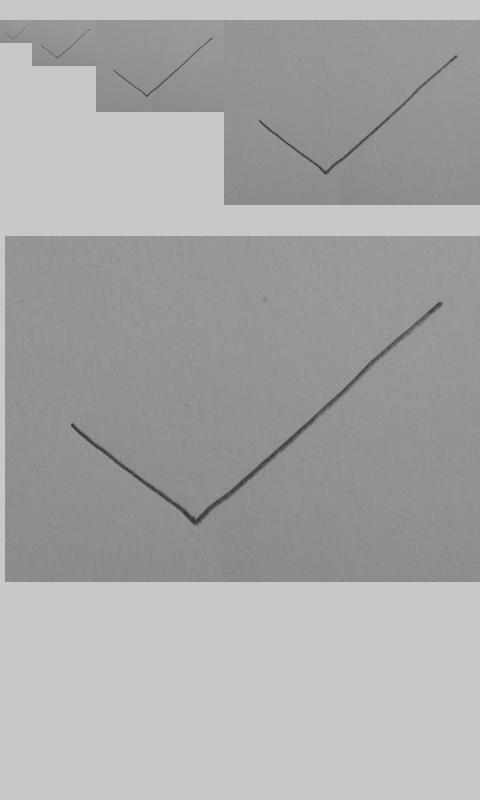check_box: (72, 302, 442, 525), (258, 55, 458, 175), (113, 37, 212, 97), (41, 29, 90, 59), (5, 25, 28, 40)
